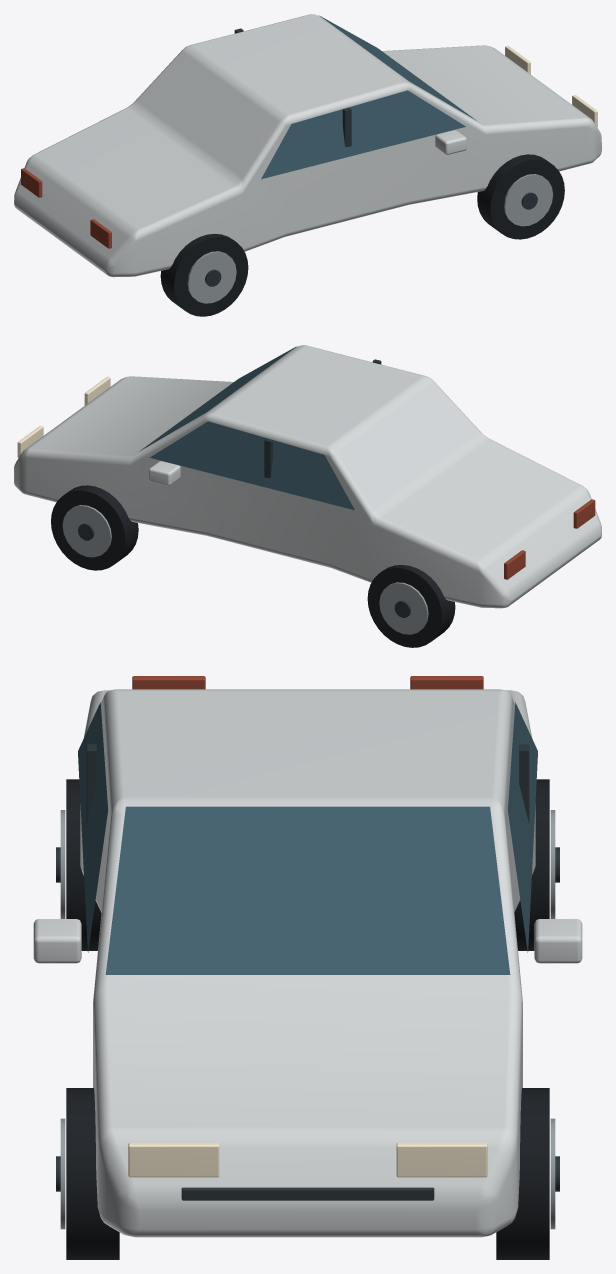
File: SM_StaffCar.fbx
3 views of the same model, one above another, from view 1: azimuth 30°, elevation 25°; view 2: azimuth 150°, elevation 25°; view 3: azimuth 270°, elevation 25° (orthographic). The views are drawn at different scales.
Parts seen in each view (by area): view 1: SM_StaffCar; view 2: SM_StaffCar; view 3: SM_StaffCar.
Boxes of the visible parts, left/top/right/bottom form: SM_StaffCar: left=14, top=14, right=601, bottom=316; SM_StaffCar: left=14, top=345, right=601, bottom=647; SM_StaffCar: left=33, top=676, right=582, bottom=1259.
Bounding box in the file's own units: 455 × 217 × 151.
